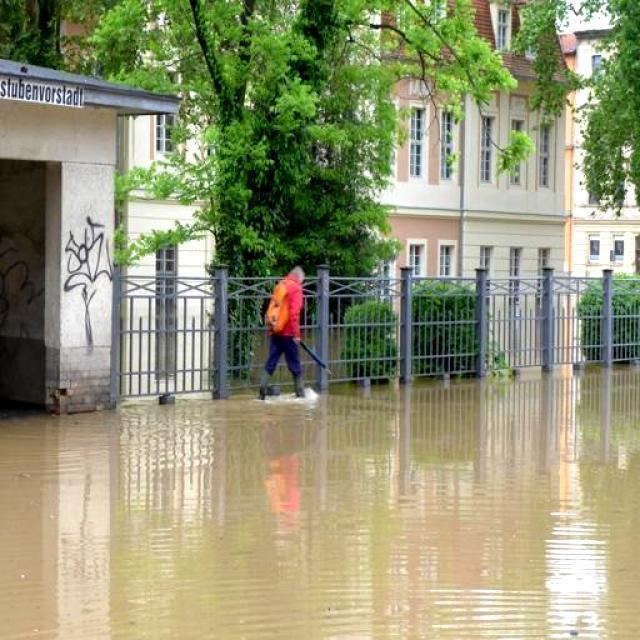civilian: (265, 254, 310, 411)
